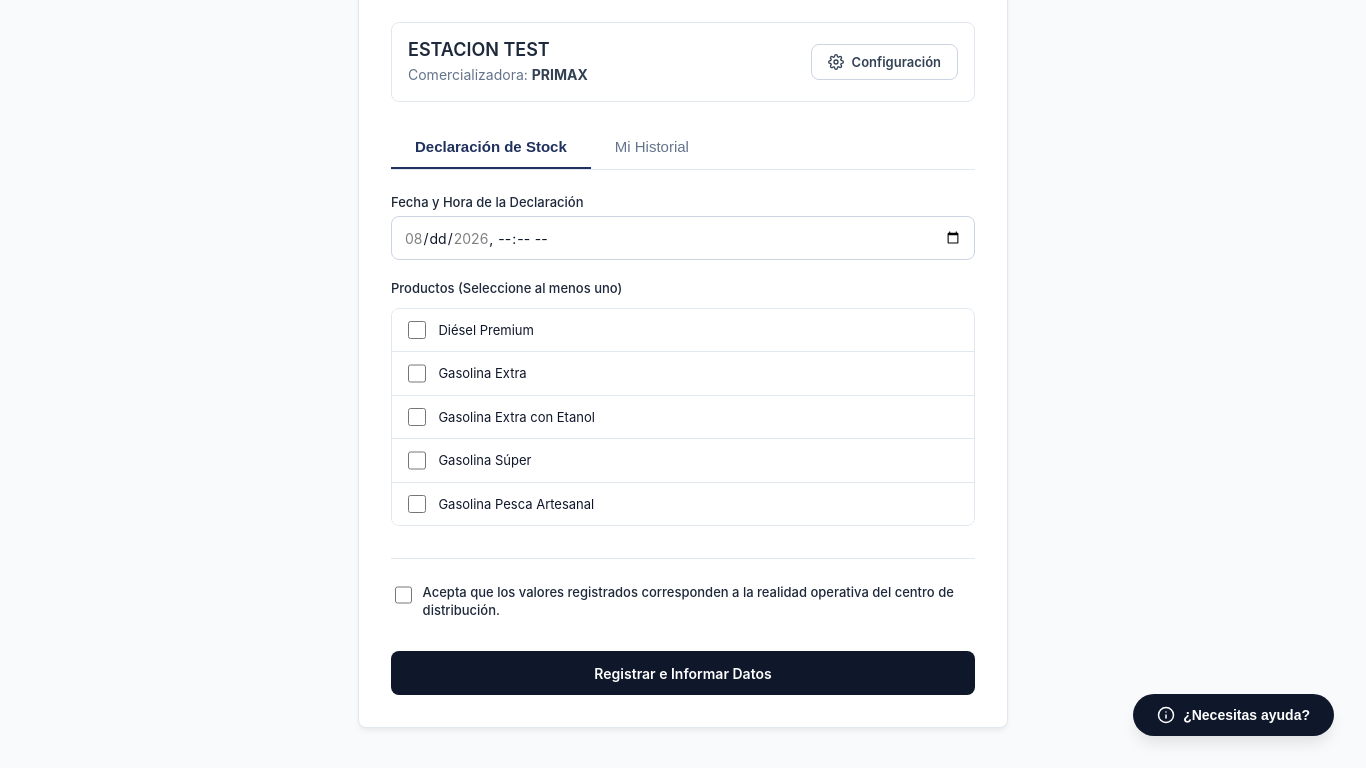
it: FormularioES - Ingreso Diario de Operaciones › debe mostrar errores de validación si se envía vacío
(page scrolled)
Click the button "Registrar e Informar Datos". click: (683, 673)
box: [391,651,975,695]
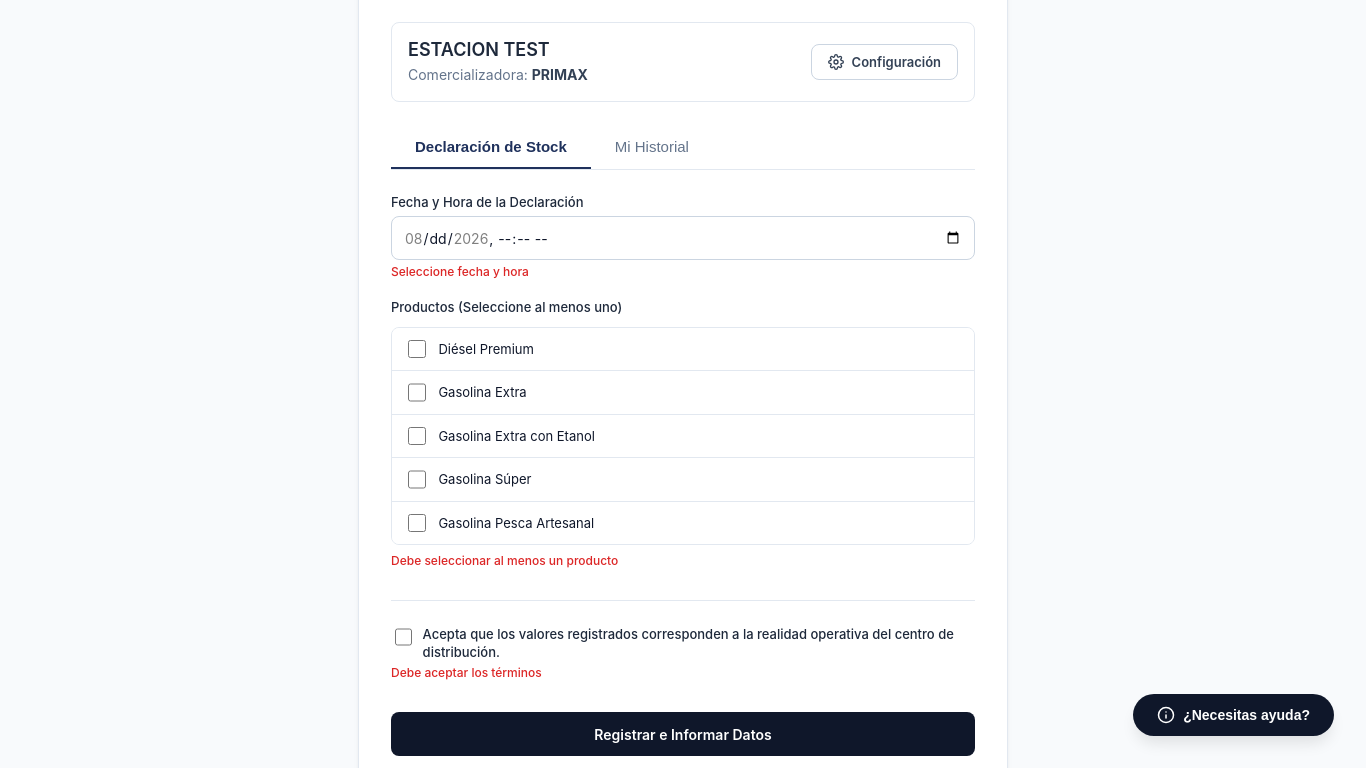
Now the text "Seleccione fecha y hora" is shown, box [391,264,529,279]
Now the text "Debe seleccionar al menos un producto" is shown, box [391,553,618,568]
Now the text "Debe aceptar los términos" is shown, box [391,665,542,680]
